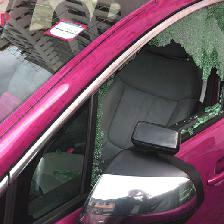glass_shatter: (97, 17, 218, 165)
